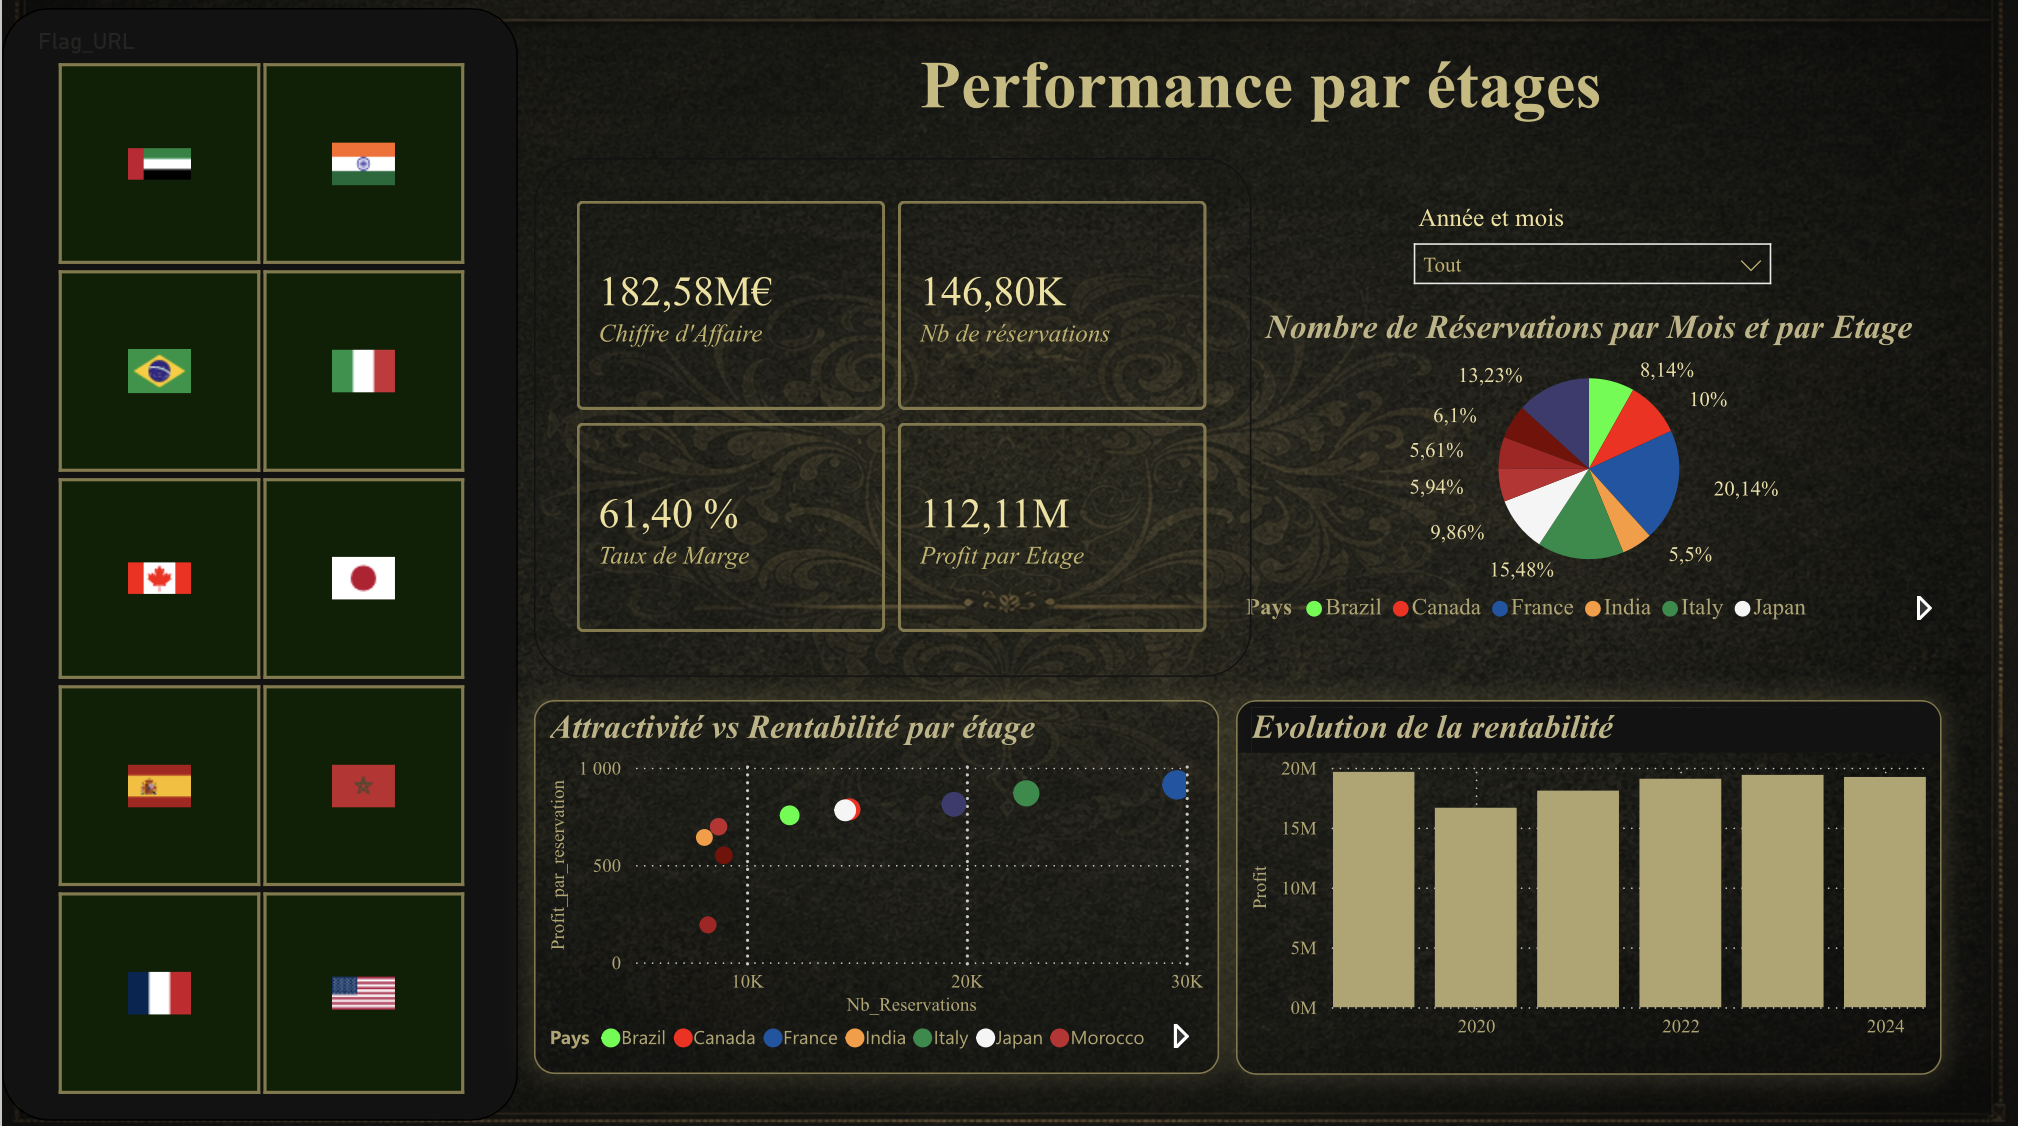

The page's visual inventory and layout, read from the dashboard file:
{"tool":"powerbi","page":{"name":"Etages","canvas":[1280,720],"ordinal":2},"visuals":[{"type":"image","box":[0,0,1280.5,720.6],"z":0},{"type":"pieChart","title":"Nombre de Réservations par Mois et par Etage","fields":{"Y":["Mesure.Nb_Reservations"],"Series":["DIM_Pays_Etage.Pays"]},"box":[785.2,197.1,445.6,210.4],"z":1000},{"type":"columnChart","title":"Evolution de la rentabilité ","fields":{"Category":["Calendrier.Date.Variation.Hiérarchie de dates.Année"],"Y":["Mesure.Profit"]},"box":[784,446,448,238],"z":2000},{"type":"slicer","fields":{"Values":["DIM_Pays_Etage.Flag_URL"]},"box":[0,6.4,327.6,706.3],"z":3000},{"type":"cardVisual","fields":{"Data":["Mesure.CA_Total1","Mesure.Nb_Reservations","Mesure.Marge_%1","Mesure.Profit_par_Etage1"]},"box":[337.9,101,455.5,329.6],"z":4000},{"type":"scatterChart","title":"Attractivité vs Rentabilité par étage","fields":{"Size":["Mesure.CA_Total"],"X":["Mesure.Nb_Reservations"],"Y":["Mesure.Profit_par_reservation"],"Series":["DIM_Pays_Etage.Pays"]},"box":[337.7,445.5,435.2,237.5],"z":5000},{"type":"textbox","box":[578.1,24.8,505.2,61.3],"z":7001},{"type":"slicer","fields":{"Values":["Calendrier.Année","Calendrier.Nom du mois"]},"box":[886.2,125.9,246.8,59.6],"z":7002}]}

Visuals, with their boxes in screenshot pixels (x1, y1, x2, y2), scaled from the page's 1280x720 canvas onto the 2018x1126 screenshot:
image: <region>0, 0, 2017, 1125</region>
"Nombre de Réservations par Mois et par Etage" pieChart: <region>1238, 308, 1940, 637</region>
"Evolution de la rentabilité " columnChart: <region>1236, 697, 1942, 1070</region>
slicer - DIM_Pays_Etage.Flag_URL: <region>0, 10, 516, 1115</region>
cardVisual - Mesure.CA_Total1 x Mesure.Nb_Reservations: <region>533, 158, 1251, 673</region>
"Attractivité vs Rentabilité par étage" scatterChart: <region>532, 697, 1219, 1068</region>
textbox: <region>911, 39, 1708, 135</region>
slicer - Calendrier.Année x Calendrier.Nom du mois: <region>1397, 197, 1786, 290</region>
